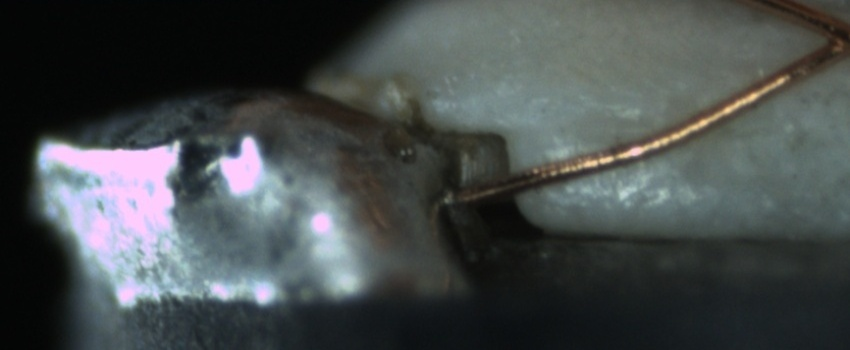CL: (802, 6, 849, 68)
DL: (540, 101, 662, 157)
